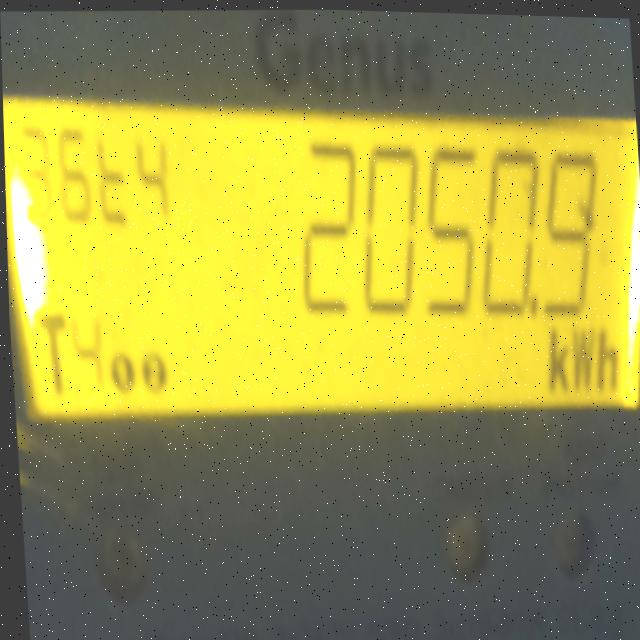.: (530, 298, 540, 313)
0: (355, 140, 422, 313), (476, 144, 541, 302)
2: (294, 141, 362, 314)
3: (17, 121, 51, 224)
4: (135, 138, 165, 217)
5: (416, 139, 480, 313)
6: (58, 122, 89, 222)
8: (95, 131, 128, 223)
9: (541, 147, 603, 314)
